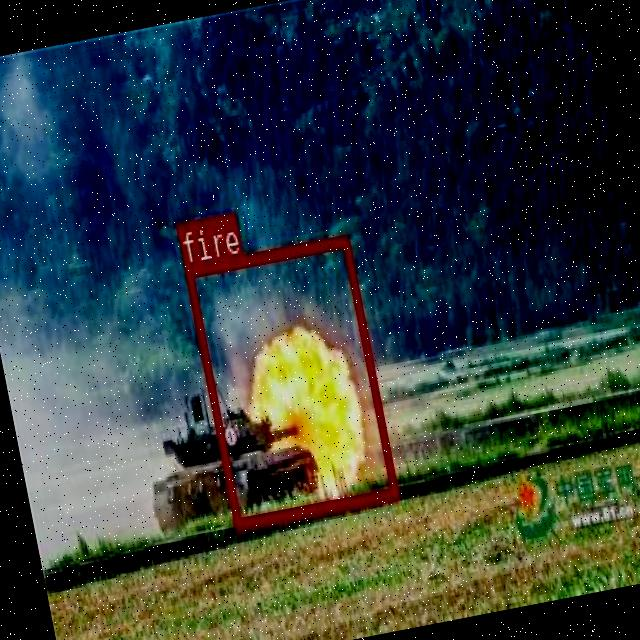fire: (184, 233, 398, 528)
